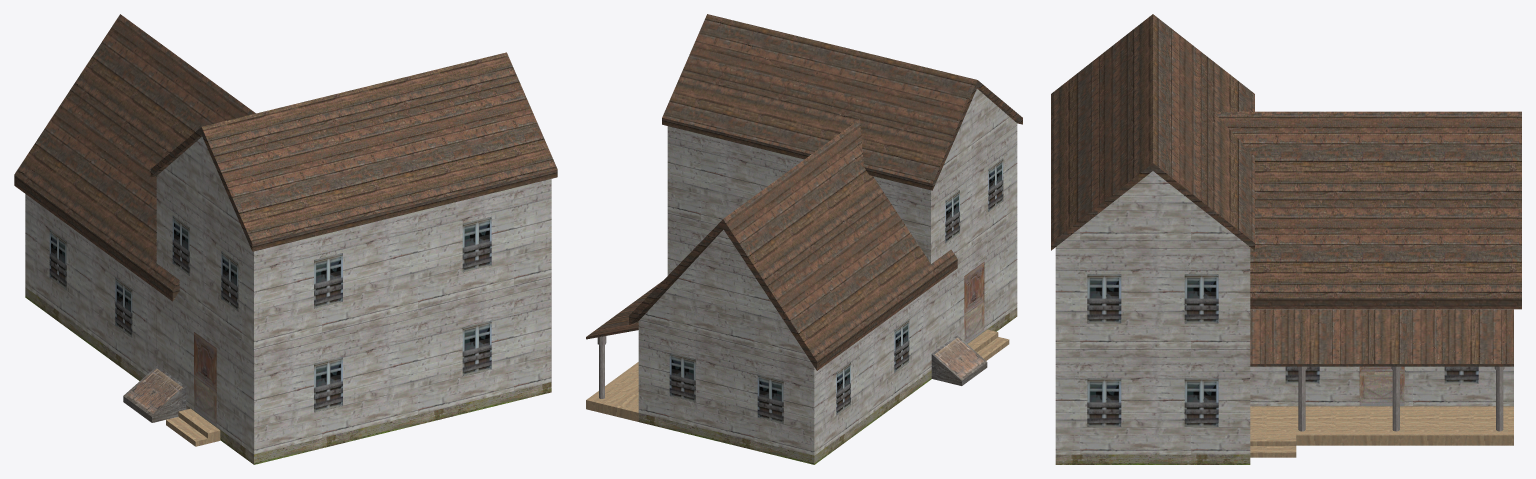
The model's file is PSX Abandoned House.fbx.
3 renders of one model, left to right at view 1: azimuth 30°, elevation 25°; view 2: azimuth 150°, elevation 25°; view 3: azimuth 270°, elevation 25°, orthographic. The views are drawn at different scales.
Parts seen in each view (by area): view 1: PSX Abandoned House; view 2: PSX Abandoned House; view 3: PSX Abandoned House.
Boxes of the visible parts, x1,y1,x2,y2 form: PSX Abandoned House: [14, 14, 557, 464]; PSX Abandoned House: [586, 14, 1022, 464]; PSX Abandoned House: [1051, 14, 1521, 464].
Bounding box in the file's own units: 677 × 586 × 822.
